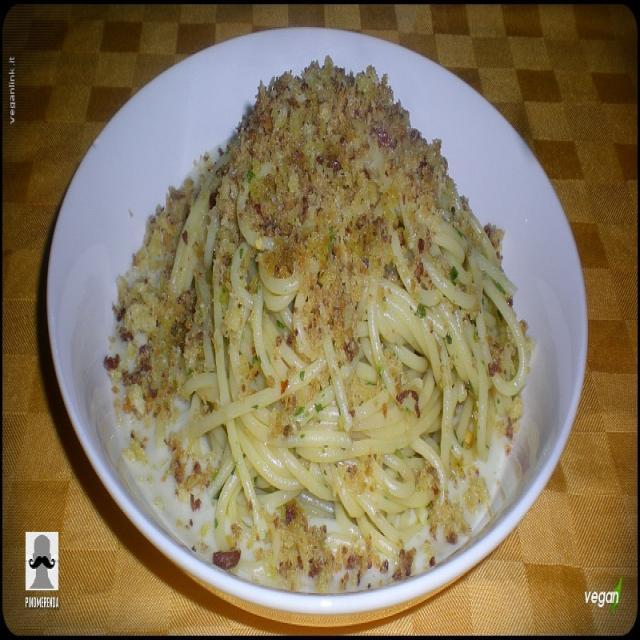Oil pasta: (109, 47, 544, 597)
